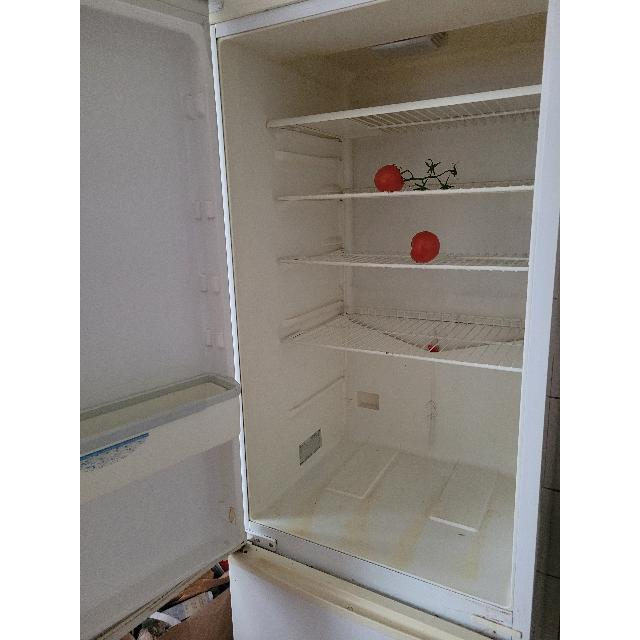tomato: (410, 230, 442, 264), (374, 164, 404, 192)
